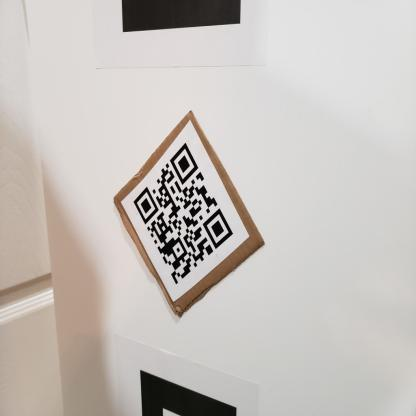qr: (128, 138, 241, 295)
